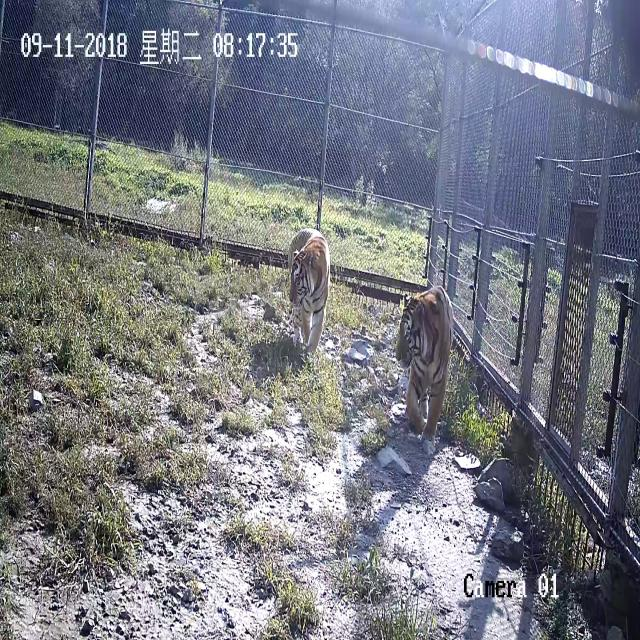Tiger: (392, 271, 459, 456), (282, 197, 348, 358)
